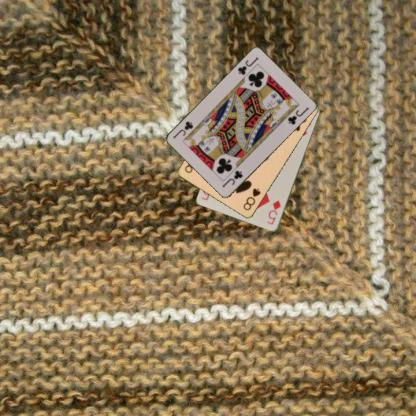5d: (265, 198, 282, 226)
8s: (240, 186, 262, 212)
Jc: (219, 167, 244, 189), (235, 54, 260, 76)
